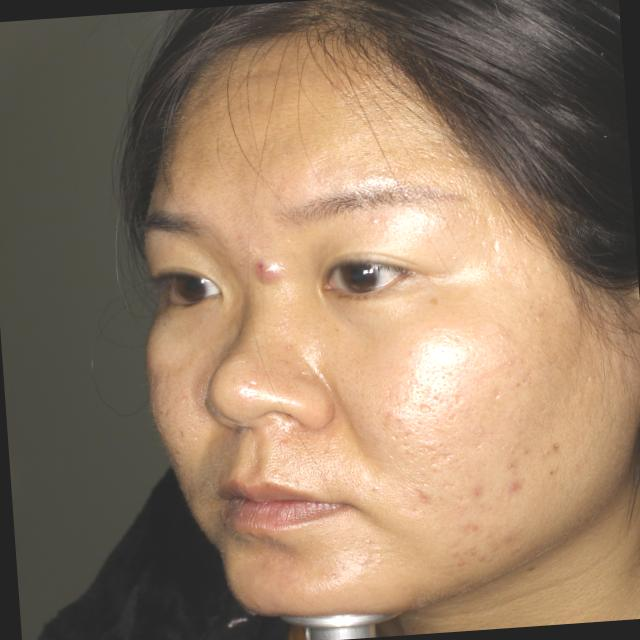blackhead: (552, 443, 558, 448), (549, 471, 552, 474), (510, 464, 512, 466), (287, 143, 289, 145)
nodule: (254, 258, 284, 284)
